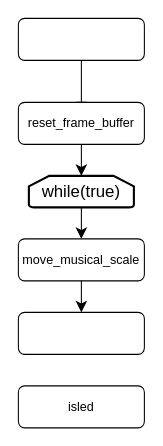
Image size: 163x446. Some labels were removed from this diagram. Each missing label, with the box of its shape:
move_time: (17, 311, 144, 354)
電源: (17, 17, 144, 60)
